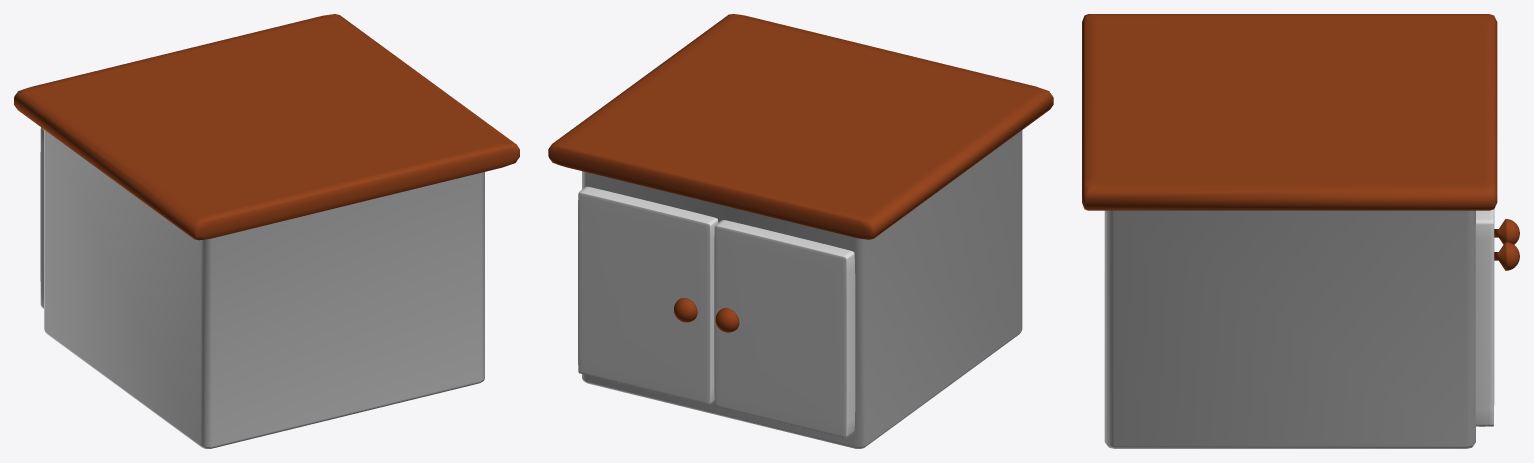
Rendered from BasicBenchFatDrawers.glb.
3 renders of one model, left to right at view 1: azimuth 30°, elevation 25°; view 2: azimuth 150°, elevation 25°; view 3: azimuth 270°, elevation 25°, orthographic. The views are drawn at different scales.
Visible parts, largest first — view 1: Cube.006; view 2: Cube.006; view 3: Cube.006.
Part boxes in pixels (bbox=[...]): Cube.006: bbox=[14, 14, 519, 448]; Cube.006: bbox=[548, 14, 1053, 448]; Cube.006: bbox=[1082, 14, 1519, 448].
Bounding box in the file's own units: 0.9205 × 0.6511 × 0.9449.
